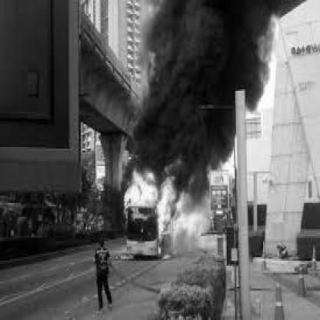Smoke: (117, 0, 294, 158)
other: (293, 245, 315, 299), (260, 237, 266, 269)
